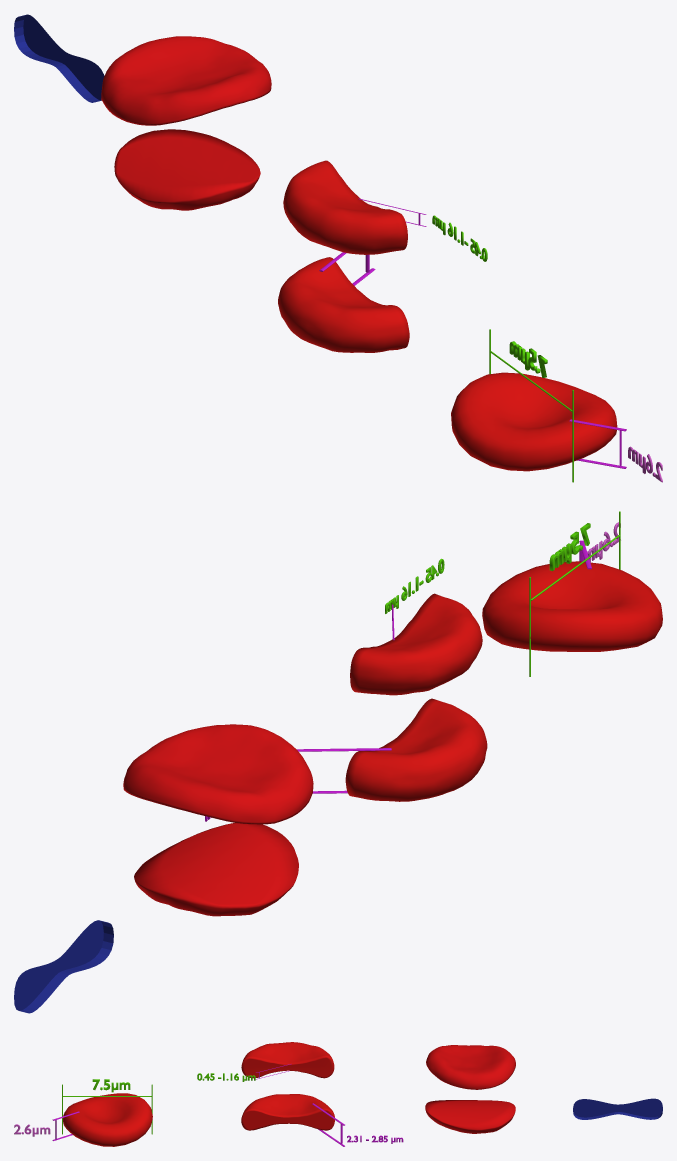
File: rbcproject_new9-4.fbx
The picture shows the model from 3 angles, top to bottom: view 1: azimuth 30°, elevation 25°; view 2: azimuth 150°, elevation 25°; view 3: azimuth 270°, elevation 25°; orthographic projection. The views are drawn at different scales.
Visible parts, largest first — view 1: c3, c2, c1, c4; view 2: c3, c2, c1, c4, s1; view 3: c3, c2, c1, c4, t3, s1, t4, t2, r1, r2.002.
Part boxes in pixels (x1=…): c3: x1=101, y1=36, x2=271, y2=210; c2: x1=278, y1=160, x2=409, y2=352; c1: x1=451, y1=372, x2=617, y2=471; c4: x1=14, y1=14, x2=104, y2=102; c3: x1=123, y1=724, x2=313, y2=916; c2: x1=345, y1=593, x2=487, y2=801; c1: x1=482, y1=561, x2=662, y2=651; c4: x1=14, y1=920, x2=113, y2=1013; s1: x1=549, y1=523, x2=590, y2=571; c3: x1=425, y1=1045, x2=515, y2=1133; c2: x1=241, y1=1042, x2=334, y2=1130; c1: x1=63, y1=1093, x2=152, y2=1146; c4: x1=573, y1=1098, x2=662, y2=1119; t3: x1=197, y1=1073, x2=255, y2=1081; s1: x1=92, y1=1079, x2=130, y2=1092; t4: x1=347, y1=1135, x2=403, y2=1143; t2: x1=14, y1=1124, x2=50, y2=1136; r1: x1=62, y1=1084, x2=152, y2=1134; r2.002: x1=312, y1=1103, x2=344, y2=1146.
Size of the model in its own units: 108 by 97.09 by 723.
